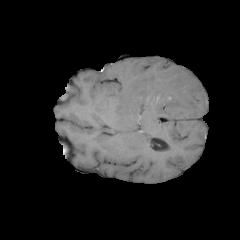glioma: (106, 66, 201, 136)
